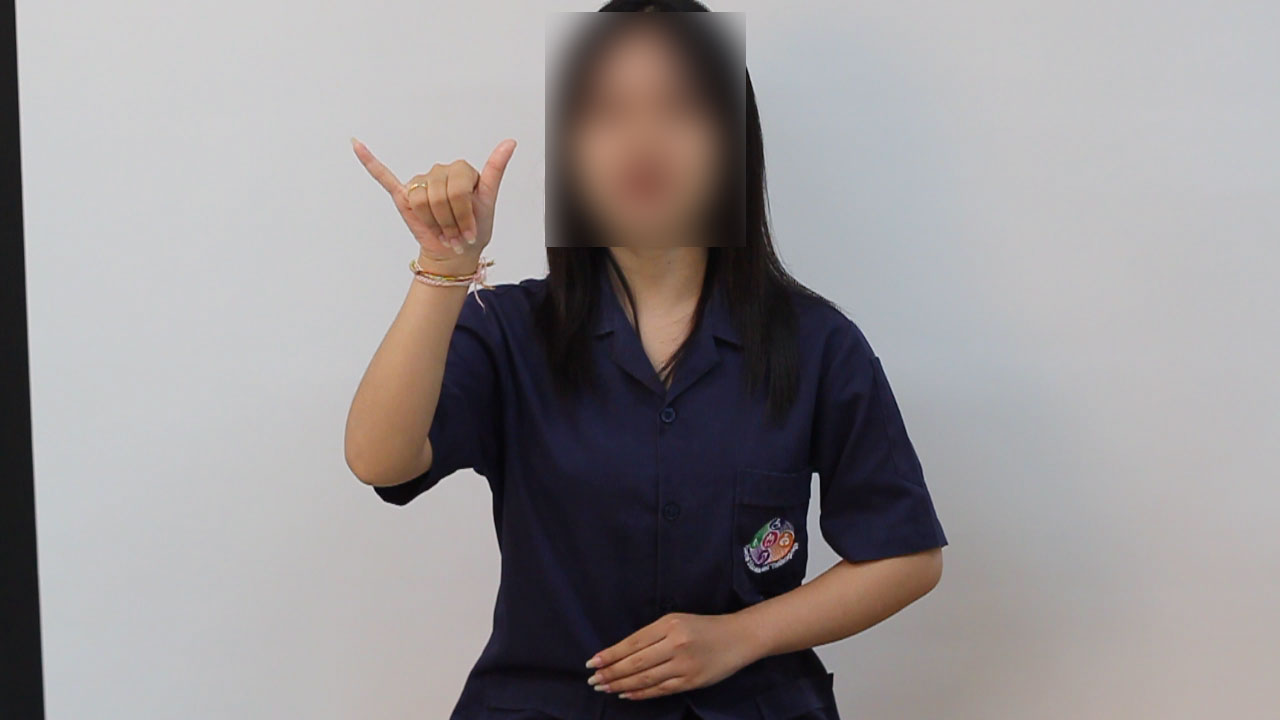yor: (343, 131, 537, 275)
